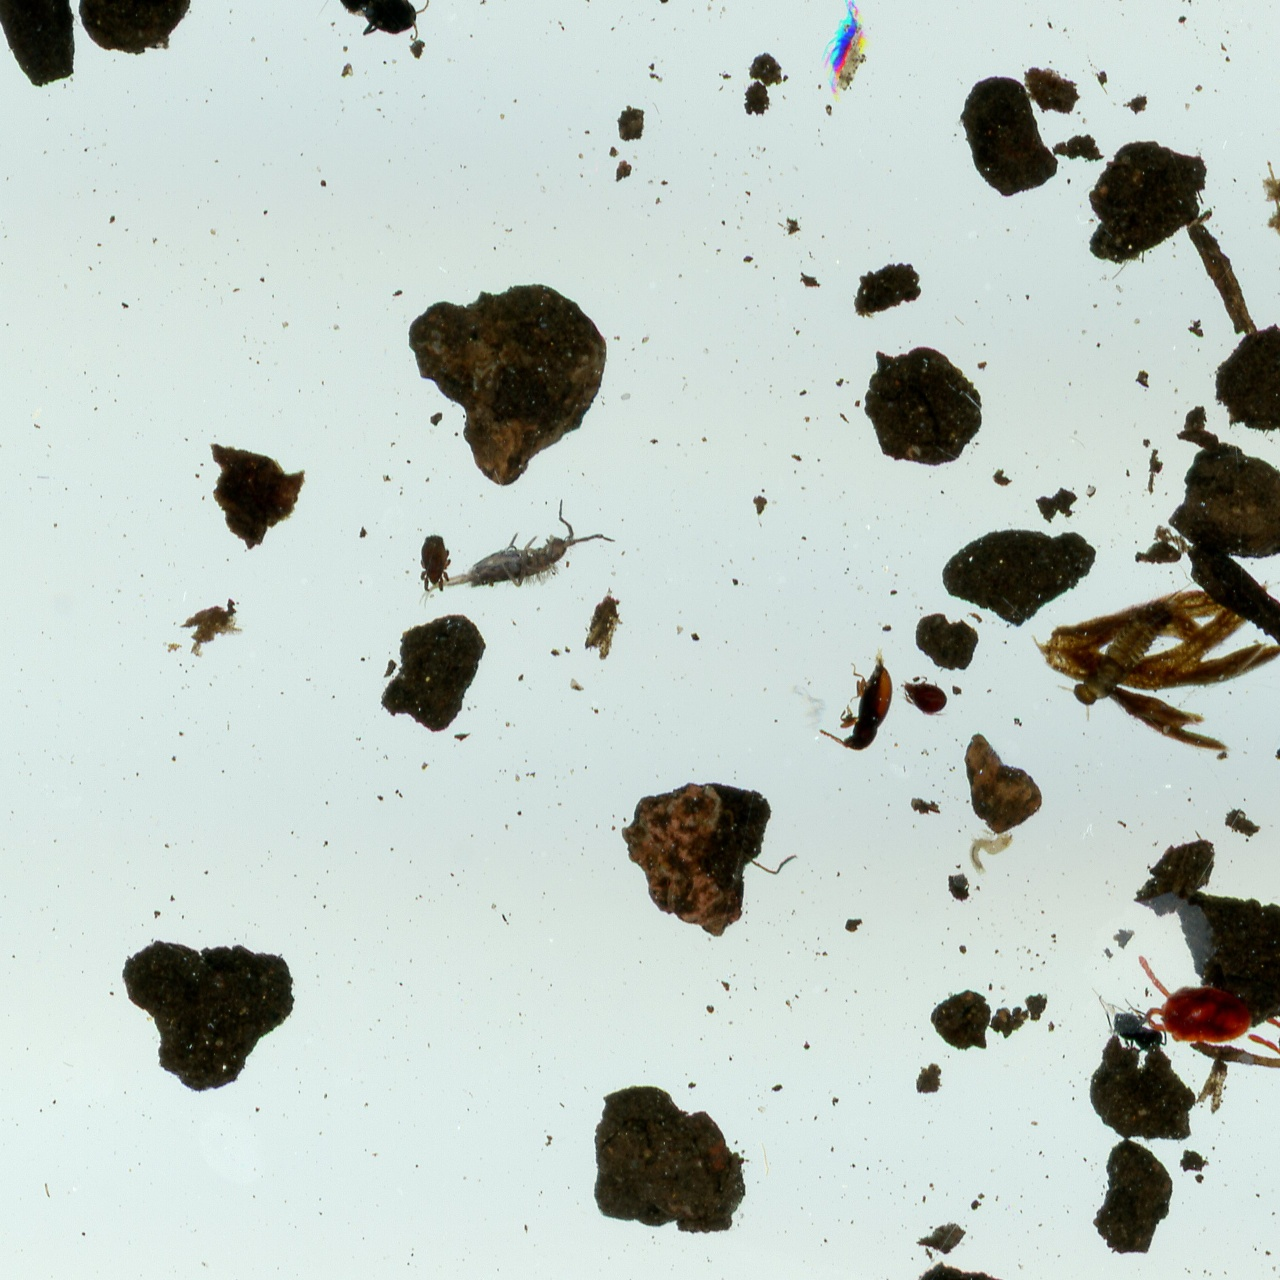arthropod: (396, 484, 629, 619), (1050, 561, 1217, 728), (1131, 941, 1252, 1048), (1078, 966, 1176, 1069), (309, 0, 448, 61), (816, 649, 896, 753), (1238, 989, 1280, 1105), (416, 532, 455, 595), (900, 674, 952, 719)
